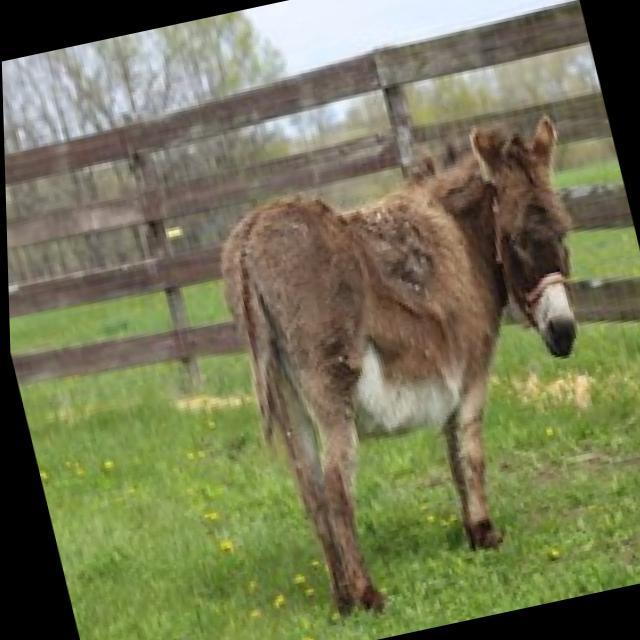Donkey: (192, 105, 640, 628)
